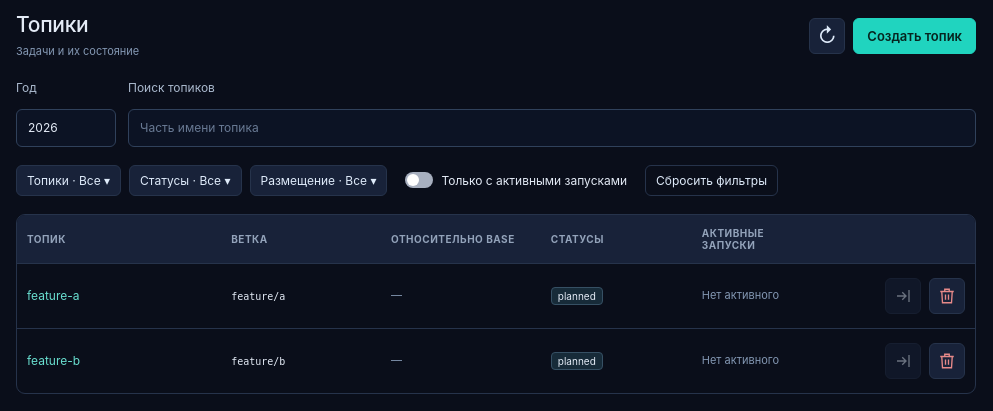
Scenario: offers the approved accessible switch, run column and useful zero-active empty state
Expected: the button with aria-label "Открыть топик feature-a" is shown, [27,288,80,303]
Expected: the column heading "Активные запуски" is shown, [692,215,825,263]
What coordinates should you click on to do the following:
click the switch labelled "Только с активными запусками"
I would click on:
 (516, 180)
Its box is [395,165,637,195].
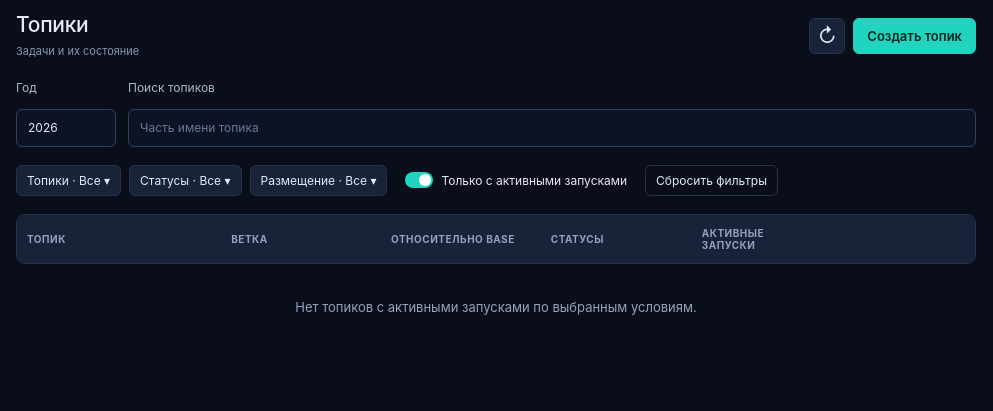
Expected: the text "Нет топиков с активными запусками по выбранным условиям." is shown, [295,299,697,315]
